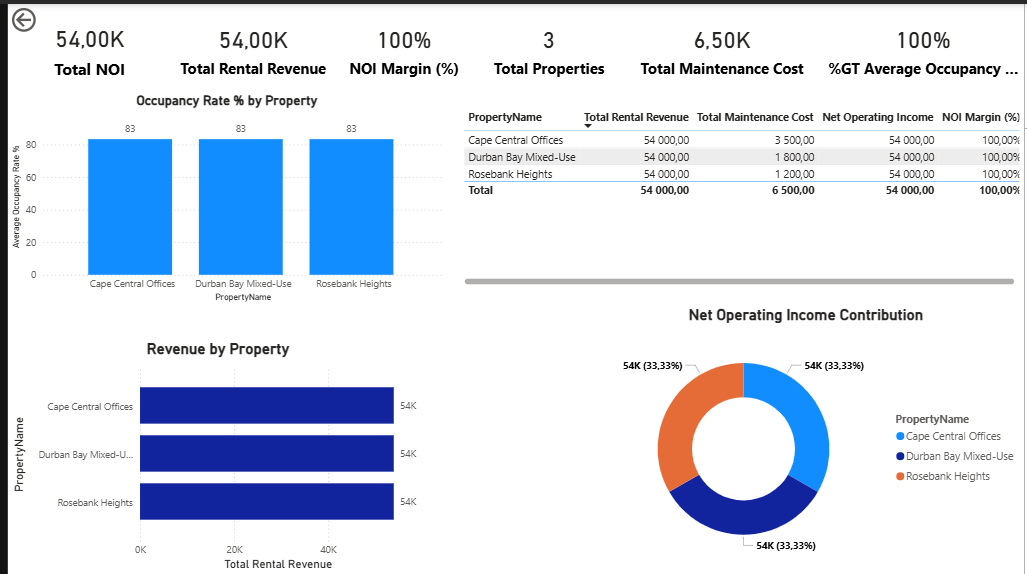

This screenshot's page, from the dashboard's own definition file:
{"tool":"powerbi","page":{"name":"Executive Portfolio Overview","canvas":[1280,720],"ordinal":0},"visuals":[{"type":"card","fields":{"Values":["vw_Property_Maintenance_Cost.Total NOI"]},"box":[0,0,205.1,111.5],"z":0},{"type":"card","fields":{"Values":["vw_Property_Maintenance_Cost.Total Rental Revenue"]},"box":[205.1,0,205.1,111.5],"z":1000},{"type":"card","fields":{"Values":["vw_Property_Maintenance_Cost.Total Properties"]},"box":[587.7,0,170.1,111.5],"z":2000},{"type":"card","fields":{"Values":["Sum(vw_Property_Maintenance_Cost.TotalMaintenanceCost)"]},"box":[757.8,0,230.6,98.3],"z":3000},{"type":"card","fields":{"Values":["vw_Property_Maintenance_Cost.NOI Margin (%)"]},"box":[410.3,0,177.3,111.5],"z":4000},{"type":"card","fields":{"Values":["vw_Property_Maintenance_Cost.Average Occupancy Rate %"]},"box":[988.4,0,291,98.3],"z":5000},{"type":"barChart","title":"Revenue by Property","fields":{"Category":["vw_Property_Maintenance_Cost.PropertyName"],"Y":["vw_Property_Maintenance_Cost.Total Rental Revenue"]},"box":[0,423.3,529.1,294.8],"z":6000},{"type":"donutChart","title":"Net Operating Income Contribution","fields":{"Category":["vw_Property_Maintenance_Cost.PropertyName"],"Y":["vw_Property_Maintenance_Cost.Net Operating Income"]},"box":[729,380.4,551.7,338.6],"z":7000},{"type":"tableEx","fields":{"Values":["vw_Property_Maintenance_Cost.PropertyName","vw_Property_Maintenance_Cost.Total Rental Revenue","vw_Property_Maintenance_Cost.Total Maintenance Cost","vw_Property_Maintenance_Cost.Net Operating Income","vw_Property_Maintenance_Cost.NOI Margin (%)"]},"box":[568.8,126.6,710.6,232.4],"z":8000},{"type":"actionButton","box":[0,0,100,40],"z":9000},{"type":"columnChart","title":"Occupancy Rate % by Property","fields":{"Category":["vw_Property_Maintenance_Cost.PropertyName"],"Y":["vw_Property_Maintenance_Cost.Average Occupancy Rate %"]},"box":[0,111.5,551.8,268.3],"z":10000}]}

Visuals, with their boxes on the page's 1280x720 design canvas (x1, y1, x2, y2). These are canvas units, not pixel positions in the 1027x574 screenshot, which may show the page scaled, cropped or inside an application window:
card - vw_Property_Maintenance_Cost.Total NOI: 0, 0, 205, 112
card - vw_Property_Maintenance_Cost.Total Rental Revenue: 205, 0, 410, 112
card - vw_Property_Maintenance_Cost.Total Properties: 588, 0, 758, 112
card - Sum(vw_Property_Maintenance_Cost.TotalMaintenanceCost): 758, 0, 988, 98
card - vw_Property_Maintenance_Cost.NOI Margin (%): 410, 0, 588, 112
card - vw_Property_Maintenance_Cost.Average Occupancy Rate %: 988, 0, 1279, 98
"Revenue by Property" barChart: 0, 423, 529, 718
"Net Operating Income Contribution" donutChart: 729, 380, 1281, 719
tableEx - vw_Property_Maintenance_Cost.PropertyName x vw_Property_Maintenance_Cost.Total Rental Revenue: 569, 127, 1279, 359
actionButton: 0, 0, 100, 40
"Occupancy Rate % by Property" columnChart: 0, 112, 552, 380
